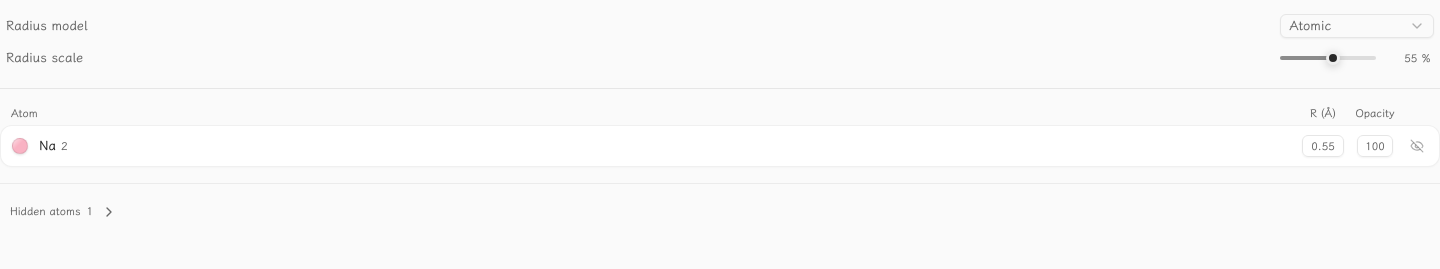
AtomsPanel › removes only the individual hidden override and continues to respect a hidden element
Expected: the icon in the row of "Hidden atoms" is shown, x1=101 y1=204 x2=117 y2=220
Step 1. Click the button named "Hidden atoms 1" → point(109, 212), box x1=97 y1=200 x2=121 y2=224
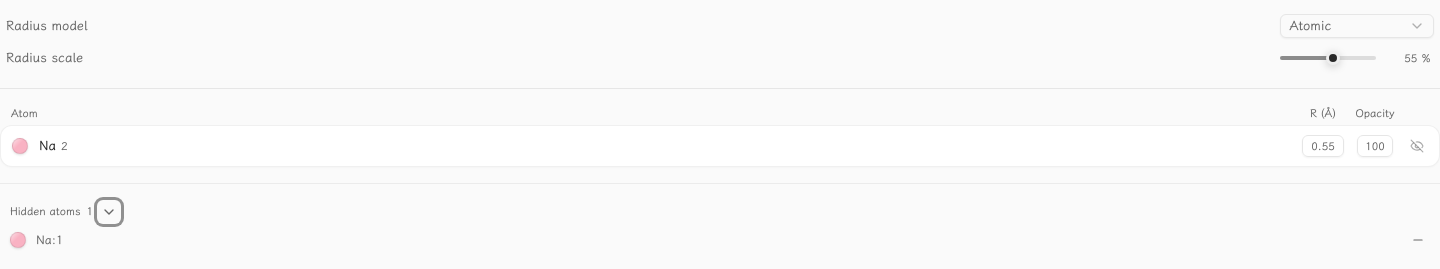
Step 2. Click the button named "Restore Na:1 to element visibility" → point(1418, 240), box x1=1406 y1=228 x2=1430 y2=252
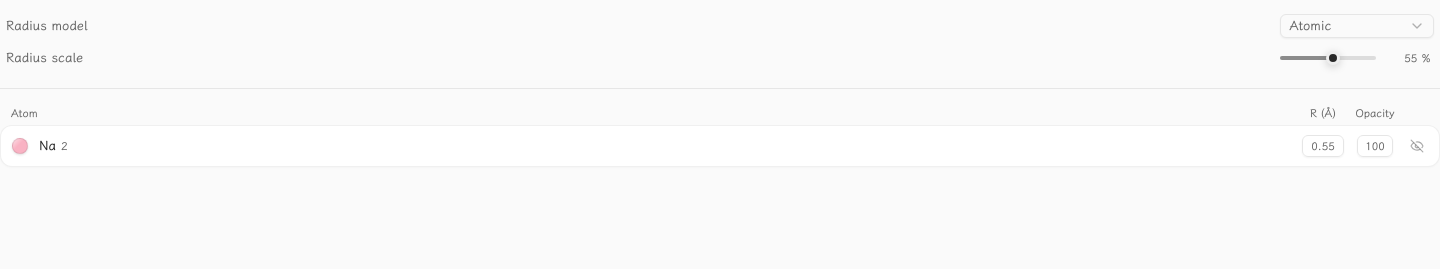
Expected: the text "Na:1" is gone
